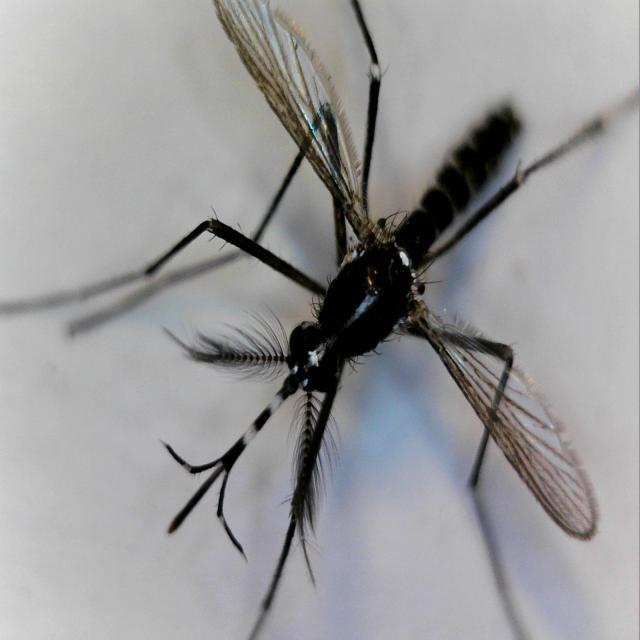aegypti: (88, 14, 612, 611)
